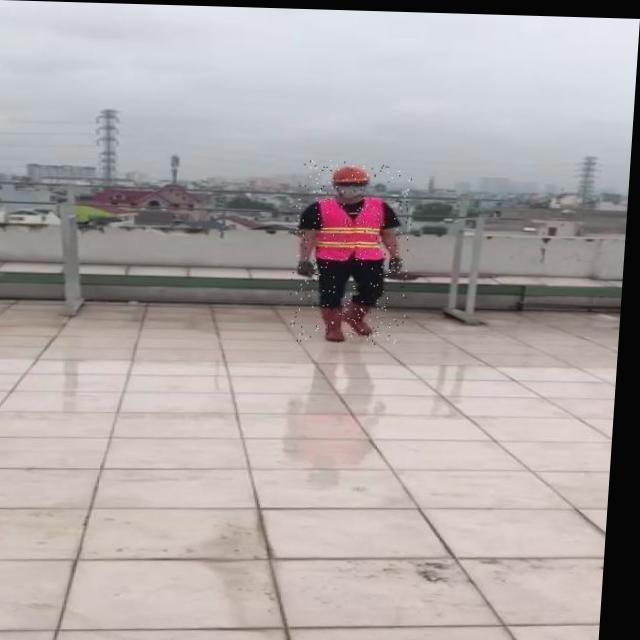Gloves: (299, 257, 319, 275), (391, 253, 406, 271)
Safety-Boot: (347, 295, 379, 333), (323, 302, 350, 339)
Safety-Vest: (314, 192, 390, 260)
